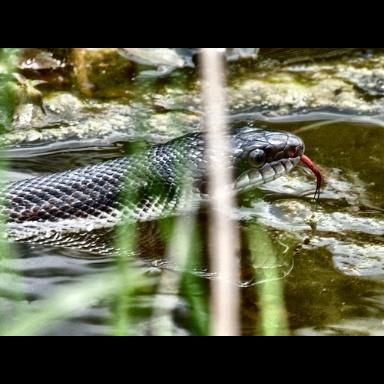snake: (13, 127, 305, 268)
